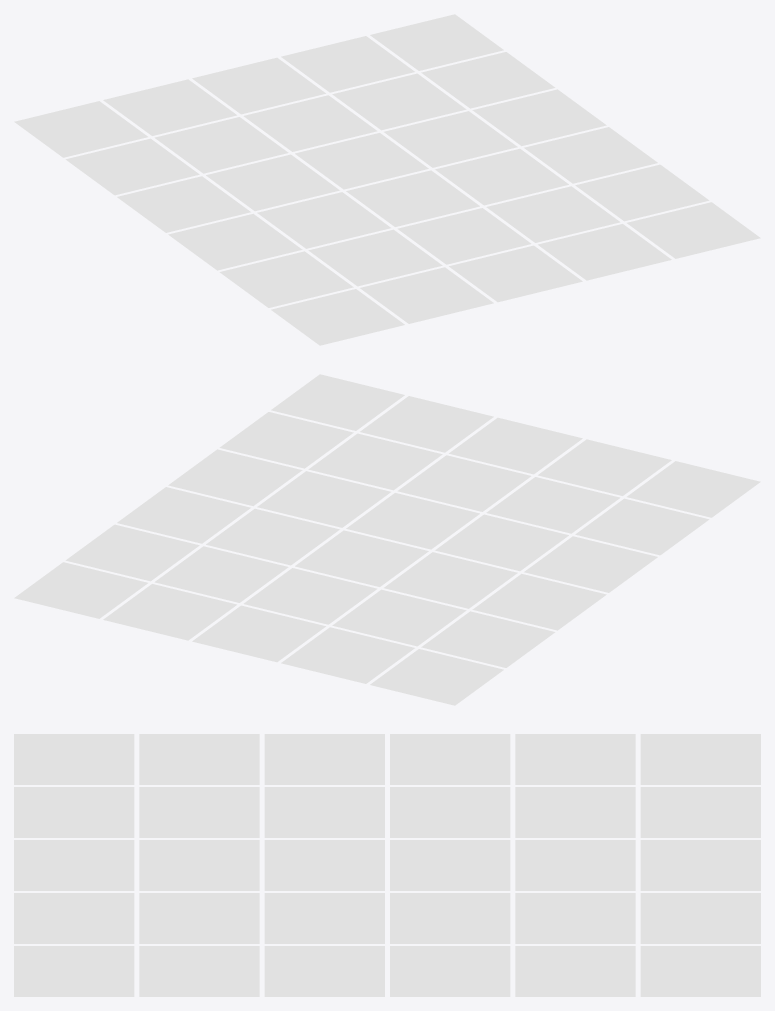
The model's file is ConvoyWave 1.fbx.
3 renders of one model, top to bottom at view 1: azimuth 30°, elevation 25°; view 2: azimuth 150°, elevation 25°; view 3: azimuth 270°, elevation 25°, orthographic. The views are drawn at different scales.
Parts seen in each view (by area): view 1: pPlane25; view 2: pPlane25; view 3: pPlane25.
Boxes of the visible parts, x1,y1,x2,y2 form: pPlane25: [14, 14, 760, 345]; pPlane25: [14, 374, 760, 705]; pPlane25: [14, 734, 760, 996].
Size of the model in its own units: 496 by 2.13e-14 by 596.
